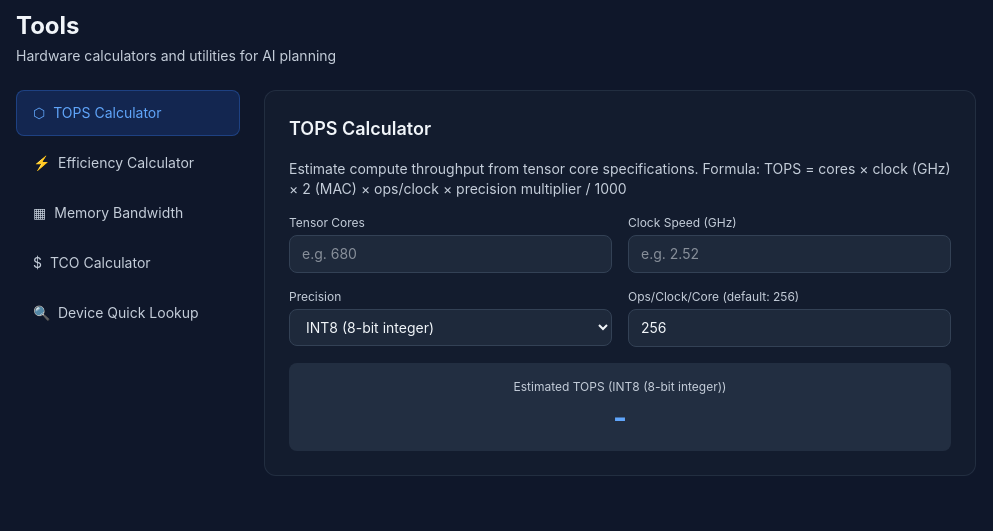
Test case: ToolsPage › switches to Efficiency Calculator on tab click
Click the tab "⚡Efficiency Calculator": (128, 163) [16, 140, 240, 186]
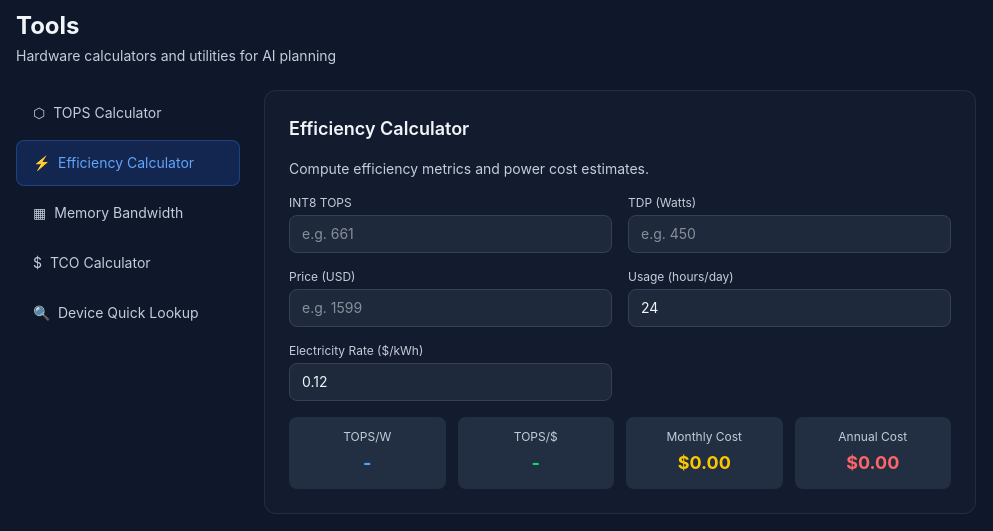
Now the number field labelled "INT8 TOPS" is shown, box [289, 215, 612, 253]
